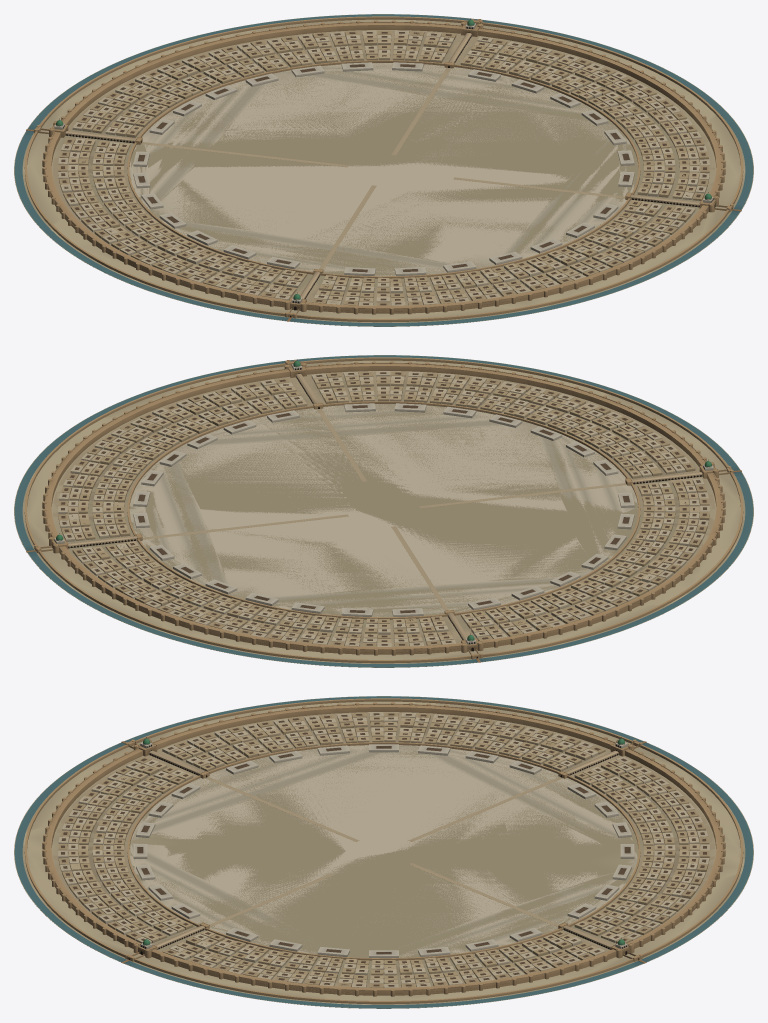
The model's file is round-city.glb.
The picture shows the model from 3 angles, top to bottom: view 1: azimuth 30°, elevation 25°; view 2: azimuth 150°, elevation 25°; view 3: azimuth 270°, elevation 25°; orthographic projection.
Visible parts, largest first — view 1: p0_ground, p2_quarters, p1_walls; view 2: p0_ground, p2_quarters, p1_walls; view 3: p0_ground, p2_quarters, p1_walls.
Part boxes in pixels (x1=…): p0_ground: x1=14, y1=14, x2=753, y2=326; p2_quarters: x1=58, y1=30, x2=709, y2=305; p1_walls: x1=24, y1=16, x2=743, y2=322; p0_ground: x1=14, y1=355, x2=753, y2=667; p2_quarters: x1=58, y1=371, x2=709, y2=646; p1_walls: x1=24, y1=357, x2=743, y2=663; p0_ground: x1=14, y1=696, x2=753, y2=1008; p2_quarters: x1=58, y1=712, x2=709, y2=987; p1_walls: x1=24, y1=698, x2=743, y2=1004.
Size of the model in its own units: 2400 by 54.3 by 2400.
